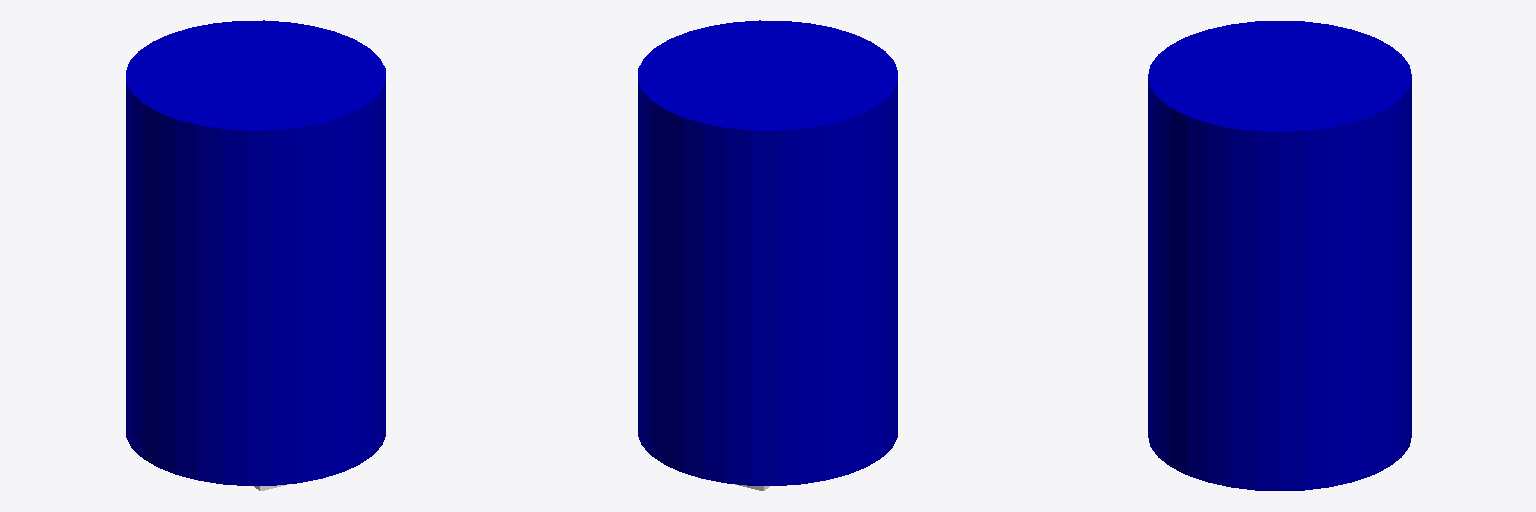
URDF robot description (physics):
<?xml version="1.0"?>
<robot name="physics">
  <link name="base_link">
    <visual>
      <geometry>
        <cylinder length="0.6" radius="0.2"/>
      </geometry>
      <material name="blue">
        <color rgba="0 0 .8 1"/>
      </material>
    </visual>
    <collision>
      <geometry>
        <cylinder length="0.6" radius="0.17"/>
      </geometry>
    </collision>
    <inertial>
      <mass value="10"/>
      <inertia ixx="1.0" ixy="0.0" ixz="0.0" iyy="1.0" iyz="0.0" izz="1.0"/>
    </inertial>
  </link>

  <link name="right_leg">
    <visual>
      <geometry>
        <box size="0.6 .2 .1"/>
      </geometry>
      <origin rpy="0 1.57075 0" xyz="0 0 -0.3"/>
      <material name="white">
        <color rgba="1 1 1 1"/>
      </material>
    </visual>
    <collision>
      <geometry>
        <box size="0.6 .2 .1"/>
      </geometry>
      <origin rpy="0 1.57075 0" xyz="0 0 -0.3"/>
    </collision>
    <inertial>
      <mass value="10"/>
      <origin rpy="0 1.57075 0" xyz="0 0 -0.3"/>
      <inertia ixx="1.0" ixy="0.0" ixz="0.0" iyy="1.0" iyz="0.0" izz="1.0"/>
    </inertial>
  </link>

  <joint name="base_to_right_leg" type="fixed">
    <parent link="base_link"/>
    <child link="right_leg"/>
    <origin xyz="0.0 0 .25"/>
  </joint>

</robot>

--- Facts derived from the render (not from the file) ---
The picture shows the robot from 3 angles, left to right: view 1: azimuth 30°, elevation 25°; view 2: azimuth 150°, elevation 25°; view 3: azimuth 270°, elevation 25°; orthographic projection.
Robot: physics — 2 links, 1 joints (1 fixed); root link base_link; default pose: all joints at 0.
Visible links, largest first — view 1: base_link; view 2: base_link; view 3: base_link.
Boxes of the visible links, box(x1,y1,x2,y2) form: base_link: box(126, 20, 385, 485); base_link: box(638, 20, 897, 485); base_link: box(1148, 21, 1411, 490).
Size in the robot's own frame: 0.4 by 0.4 by 0.65 metres.
Geometry: primitives only (box / cylinder / sphere), no mesh files.